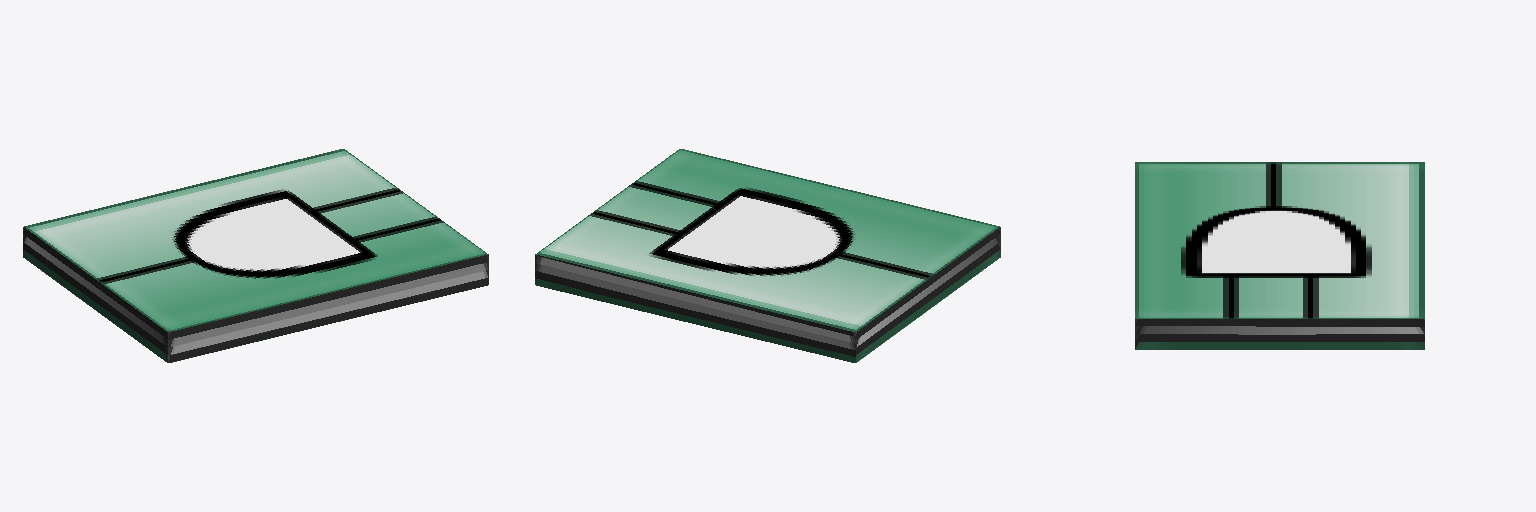
3 renders of one model, left to right at view 1: azimuth 30°, elevation 25°; view 2: azimuth 150°, elevation 25°; view 3: azimuth 270°, elevation 25°, orthographic.
Parts seen in each view (by area): view 1: cube1; view 2: cube1; view 3: cube1.
Boxes of the visible parts, box(x1,y1,x2,y2) form: cube1: box(23, 149, 488, 362); cube1: box(535, 149, 1000, 362); cube1: box(1135, 162, 1424, 349).
Size of the model in its own units: 0.535 by 0.0495 by 0.4185.
Materials: 1 (1 with a texture image).